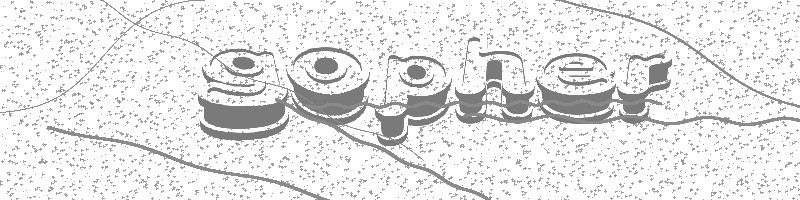e: (536, 50, 616, 125)
g: (194, 44, 289, 140)
h: (454, 36, 536, 126)
o: (286, 45, 369, 125)
p: (373, 52, 452, 147)
r: (616, 49, 672, 126)
